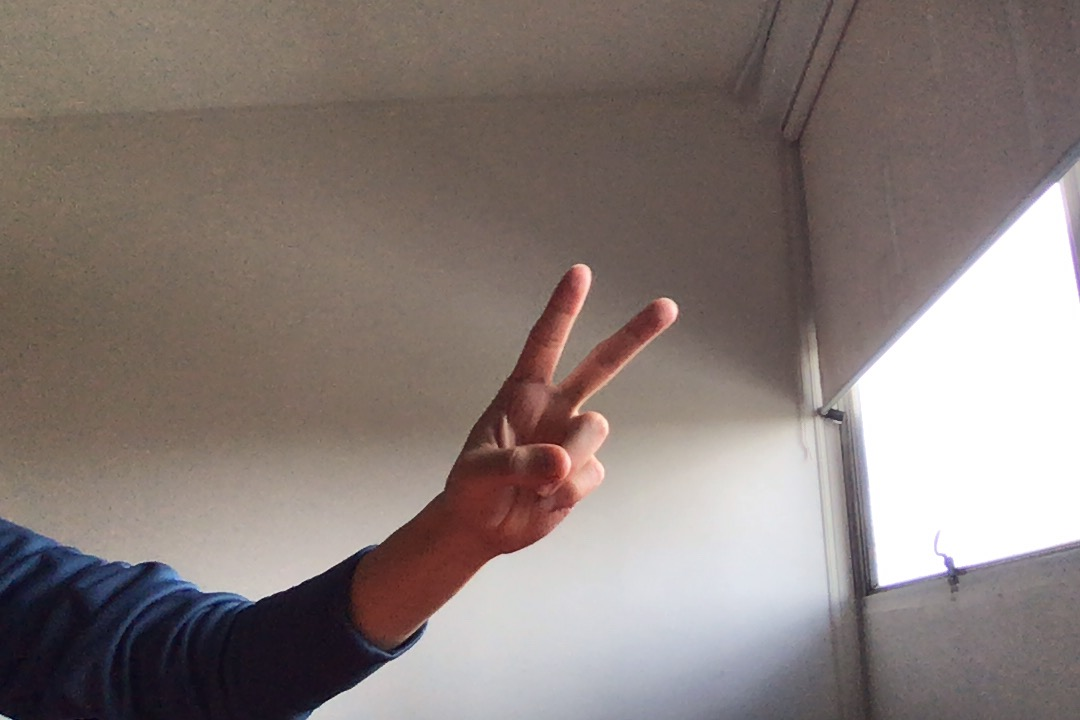peacesign: (434, 255, 686, 568)
